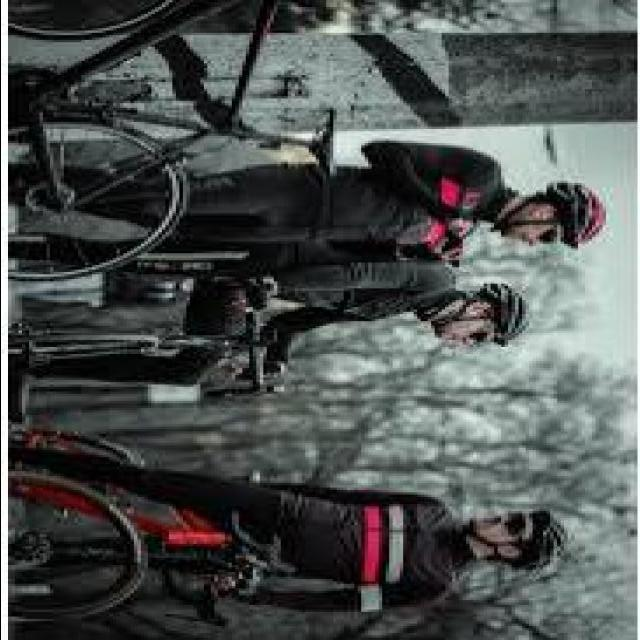bicycle: (11, 13, 333, 278), (11, 435, 291, 632), (11, 273, 277, 395)
